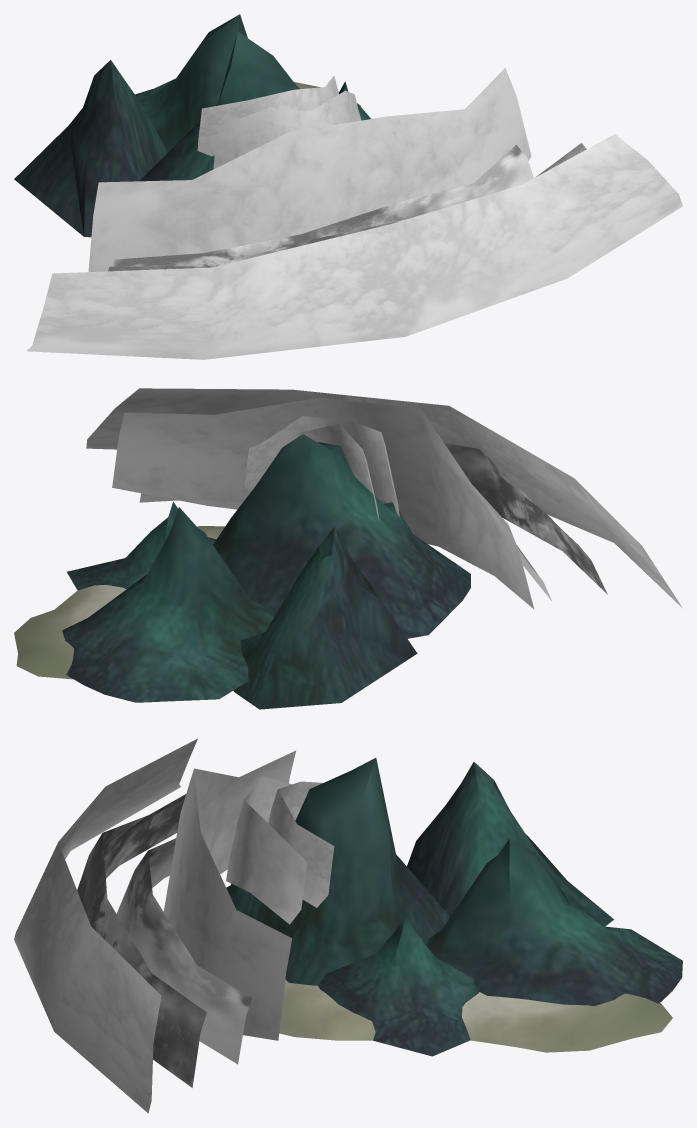
File: pir_m_are_isl_mysterious_04_dock_lod.fbx
3 renders of one model, top to bottom at view 1: azimuth 30°, elevation 25°; view 2: azimuth 150°, elevation 25°; view 3: azimuth 270°, elevation 25°, orthographic. The views are drawn at different scales.
Visible parts, largest first — view 1: base_fog, base_fog3, hill3, base_fog5, hill, hill1, base_fog6, base_fog2, base_fog4; view 2: base_fog3, hill1, hill, hill3, base_fog, base_fog4, ground1, hill2, base_fog2, base_fog6, base_fog5; view 3: base_fog, hill, hill1, base_fog3, hill2, hill3, base_fog4, base_fog5, ground1, base_fog6, ground, base_fog2.
Boxes of the visible parts, x1=… form: base_fog: x1=26, y1=134, x2=682, y2=359; base_fog3: x1=88, y1=68, x2=531, y2=271; hill3: x1=14, y1=60, x2=167, y2=237; base_fog5: x1=112, y1=145, x2=533, y2=266; hill: x1=135, y1=14, x2=247, y2=152; hill1: x1=139, y1=31, x2=299, y2=181; base_fog6: x1=213, y1=90, x2=361, y2=168; base_fog2: x1=197, y1=75, x2=338, y2=156; base_fog4: x1=108, y1=143, x2=586, y2=271; base_fog3: x1=112, y1=397, x2=533, y2=608; hill1: x1=213, y1=434, x2=470, y2=638; hill: x1=62, y1=507, x2=273, y2=702; hill3: x1=233, y1=526, x2=417, y2=709; base_fog: x1=86, y1=388, x2=682, y2=608; base_fog4: x1=444, y1=443, x2=607, y2=594; ground1: x1=14, y1=584, x2=126, y2=679; hill2: x1=67, y1=501, x2=216, y2=590; base_fog2: x1=244, y1=424, x2=379, y2=519; base_fog6: x1=260, y1=416, x2=399, y2=516; base_fog5: x1=139, y1=493, x2=551, y2=600; base_fog: x1=14, y1=738, x2=197, y2=1113; hill: x1=426, y1=839, x2=682, y2=1006; hill1: x1=226, y1=758, x2=450, y2=985; base_fog3: x1=163, y1=750, x2=296, y2=1040; hill2: x1=318, y1=913, x2=479, y2=1056; hill3: x1=407, y1=762, x2=613, y2=926; base_fog4: x1=77, y1=794, x2=206, y2=1087; base_fog5: x1=116, y1=838, x2=252, y2=1064; ground1: x1=462, y1=992, x2=672, y2=1052; base_fog6: x1=226, y1=776, x2=307, y2=924; ground: x1=279, y1=979, x2=375, y2=1040; base_fog2: x1=268, y1=781, x2=334, y2=907.
Size of the model in its own units: 365614 by 106831 by 316384.
Materials: 3 (3 with a texture image).
